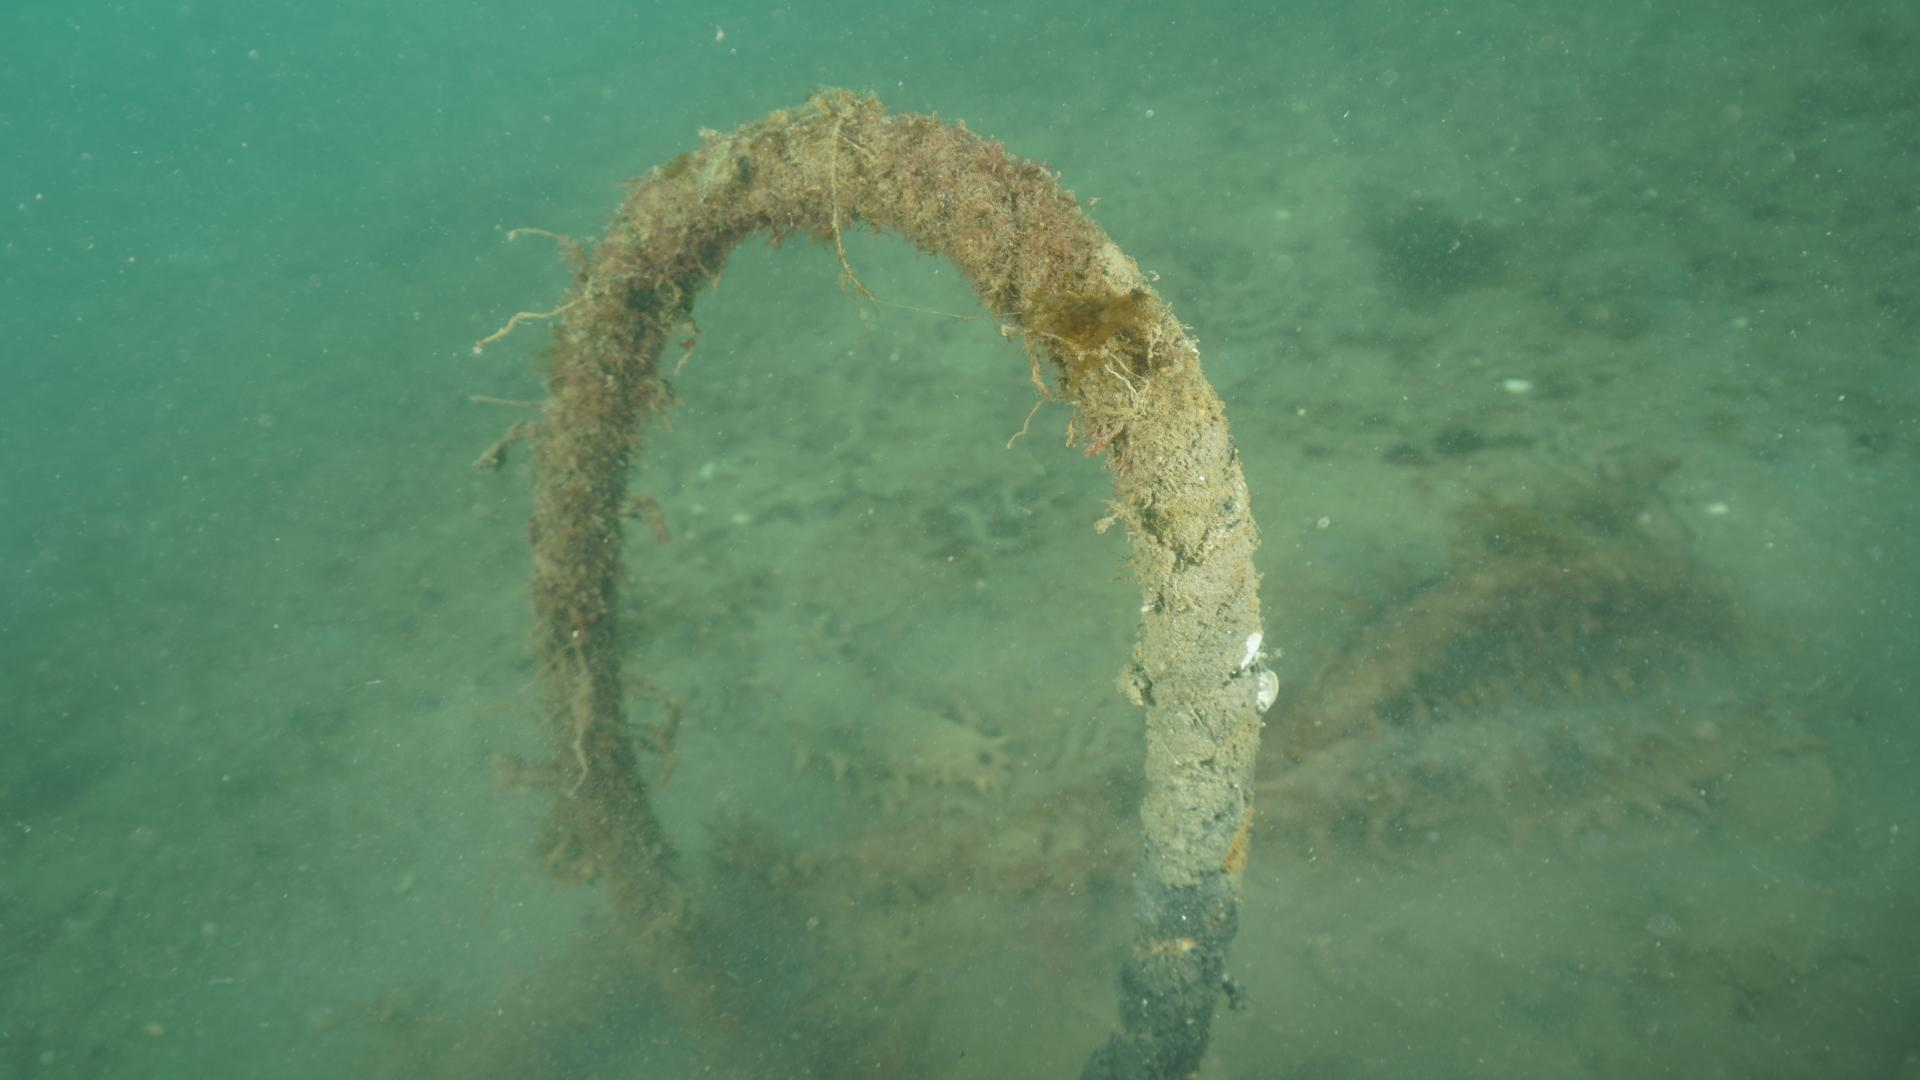rope: (522, 92, 1274, 1080)
